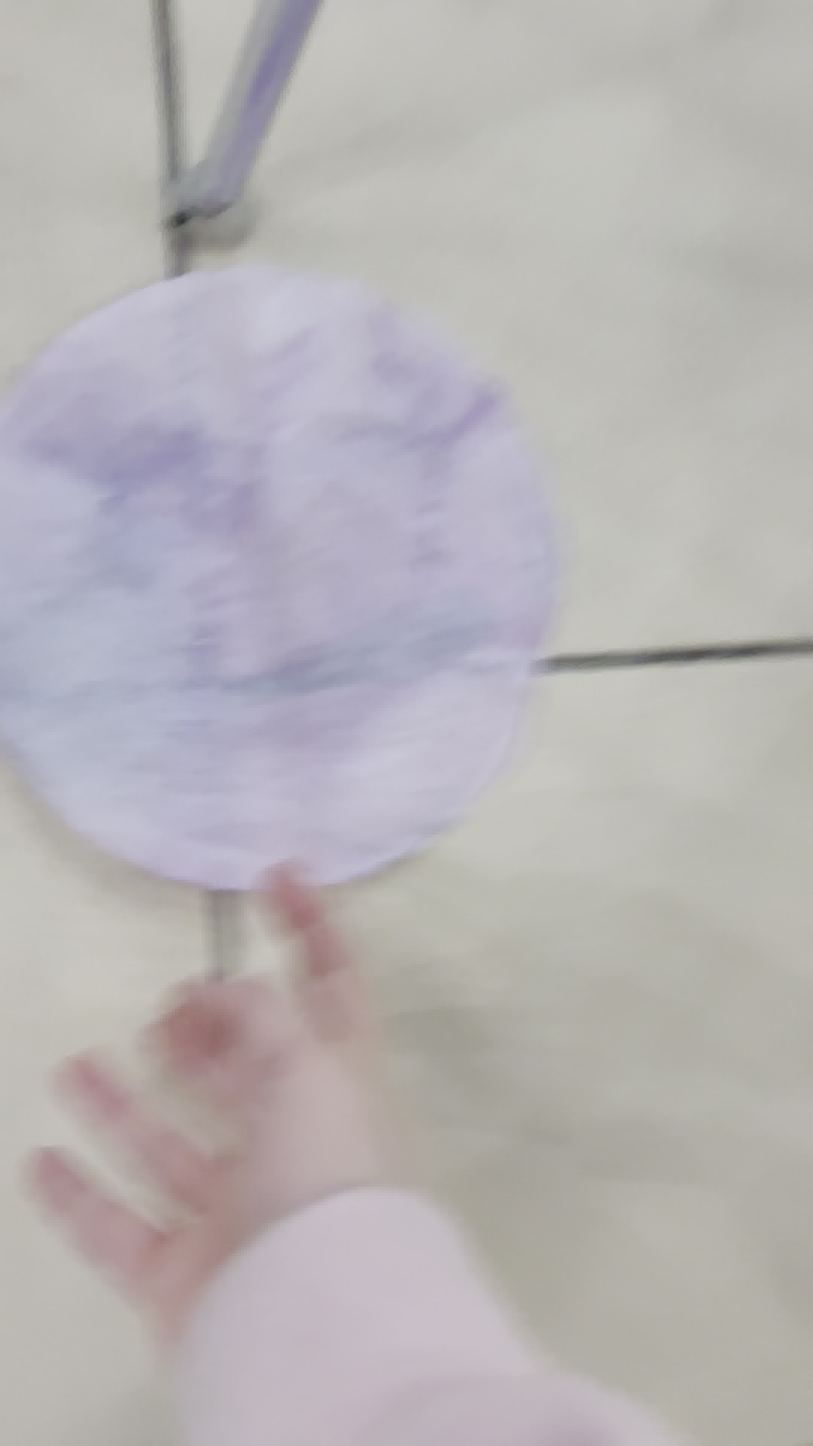Target: (0, 264, 561, 870)
